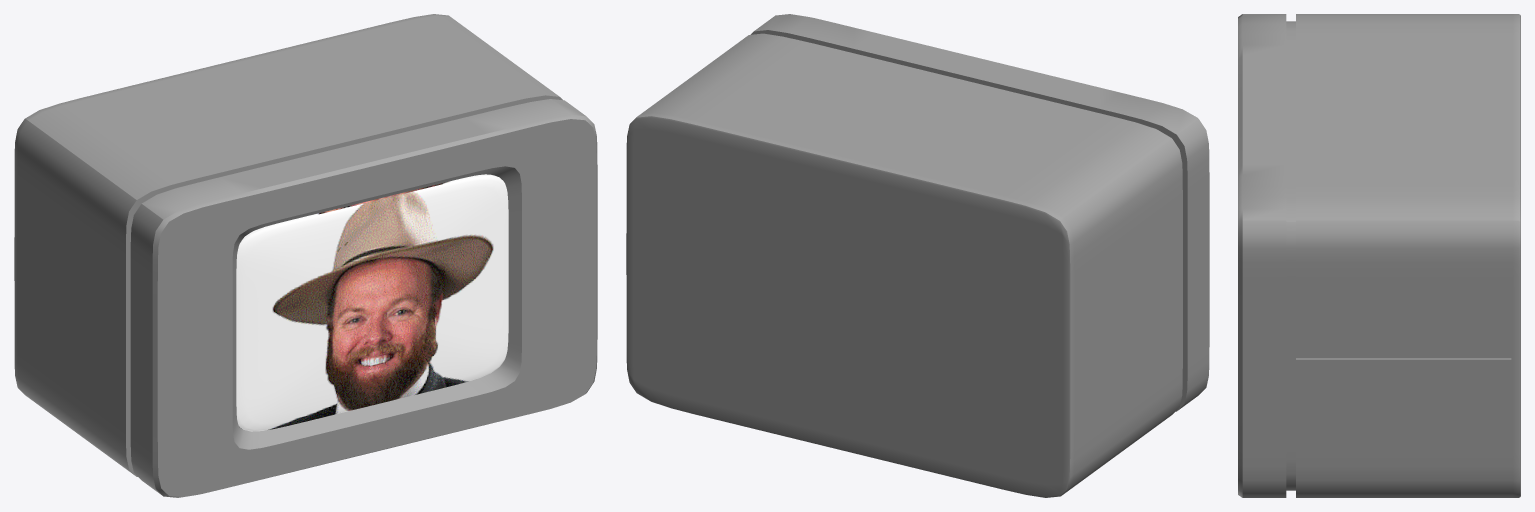
The model's file is testUV6.gltf.
The picture shows the model from 3 angles, left to right: view 1: azimuth 30°, elevation 25°; view 2: azimuth 150°, elevation 25°; view 3: azimuth 270°, elevation 25°; orthographic projection.
Visible parts, largest first — view 1: Case, Glass; view 2: Case; view 3: Case.
Part boxes in pixels (<box>): Case: <box>14,14,597,497</box>; Glass: <box>236,174,508,431</box>; Case: <box>626,14,1209,497</box>; Case: <box>1238,14,1520,497</box>.
Size of the model in its own units: 3.2 by 2 by 1.76.
2 materials, 1 textured.
